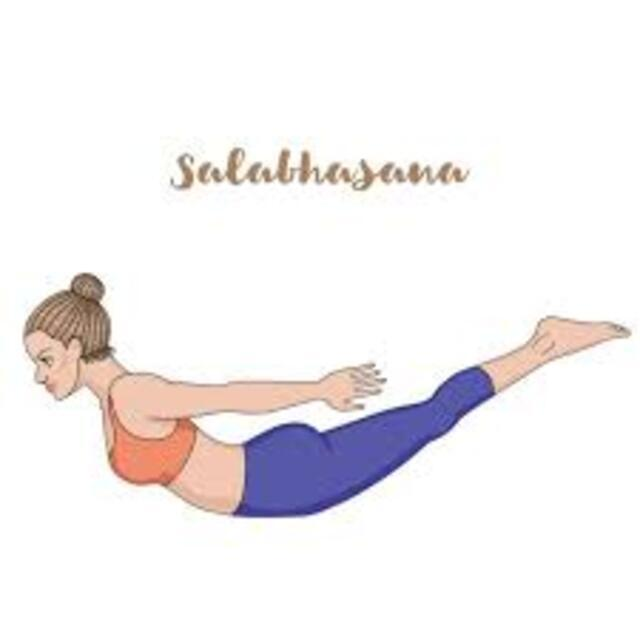Locust_Pose: (20, 272, 636, 516)
